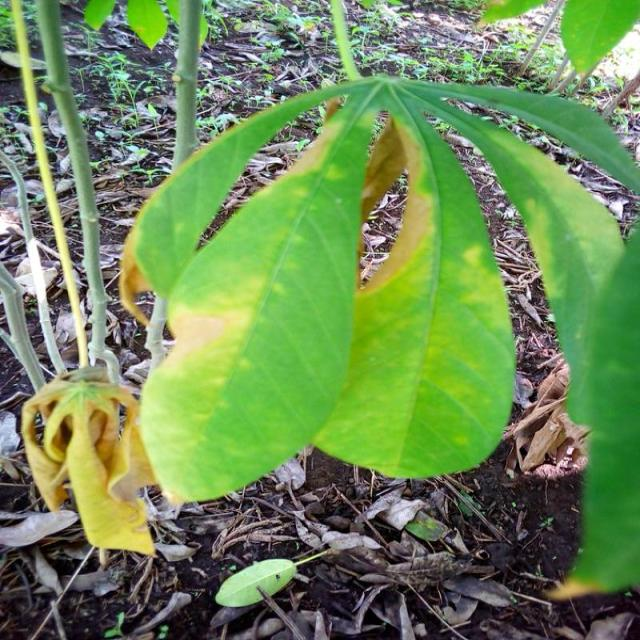cassava leaf: (137, 79, 380, 504), (310, 80, 518, 480)
